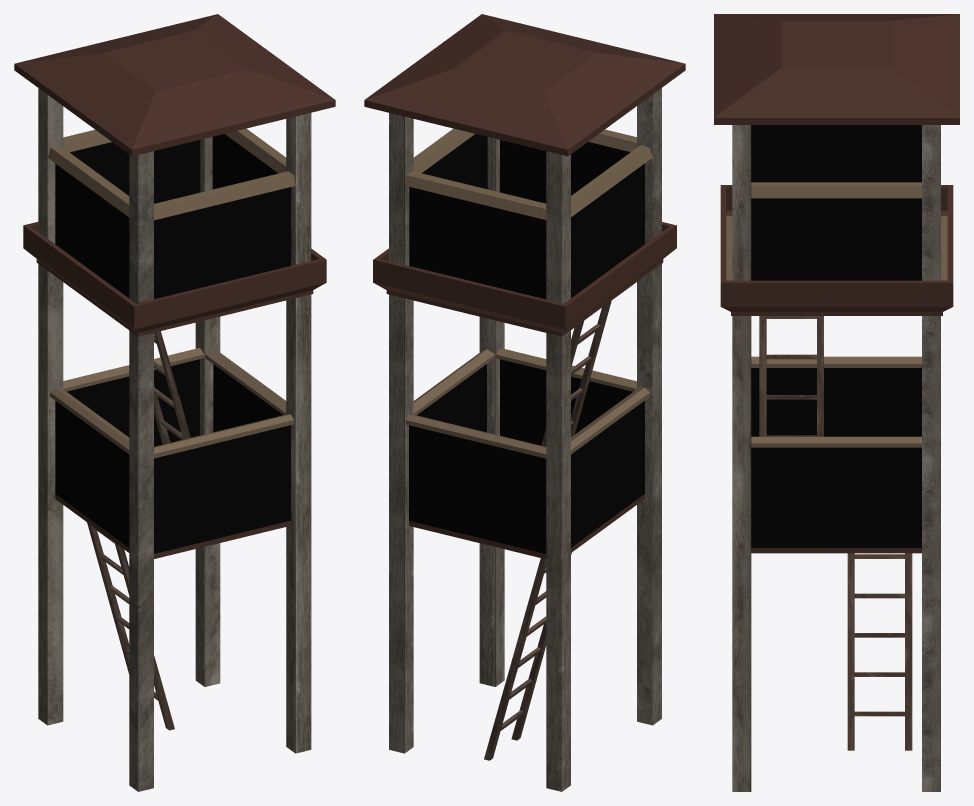
File: bridge-lookout.lod0.glb
The picture shows the model from 3 angles, left to right: view 1: azimuth 30°, elevation 25°; view 2: azimuth 150°, elevation 25°; view 3: azimuth 270°, elevation 25°; orthographic projection. The views are drawn at different scales.
Parts seen in each view (by area): view 1: Object_6, Object_4, Object_8; view 2: Object_6, Object_4, Object_8; view 3: Object_6, Object_4, Object_8.
Boxes of the visible parts, box(x1,y1,x2,y2) form: Object_6: box(14, 14, 335, 558); Object_4: box(38, 88, 311, 791); Object_8: box(87, 331, 190, 730); Object_6: box(364, 14, 685, 559); Object_4: box(389, 88, 661, 791); Object_8: box(484, 301, 611, 760); Object_6: box(714, 14, 959, 553); Object_4: box(732, 125, 940, 791); Object_8: box(759, 316, 912, 750).
Size of the model in its own units: 2.19 by 6.91 by 2.19.
3 materials, 2 textured.
